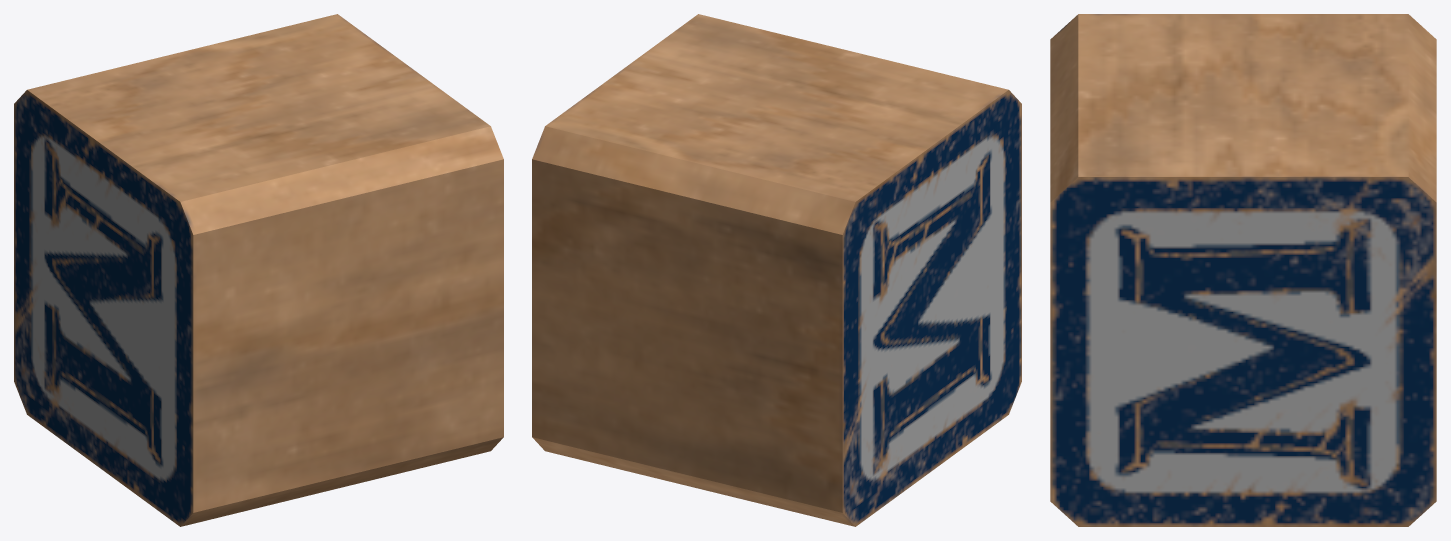
The model's file is block_M.obj.
3 renders of one model, left to right at view 1: azimuth 30°, elevation 25°; view 2: azimuth 150°, elevation 25°; view 3: azimuth 270°, elevation 25°, orthographic. The views are drawn at different scales.
Size of the model in its own units: 0.2 by 0.2 by 0.2.
Materials: 1 (1 with a texture image).
